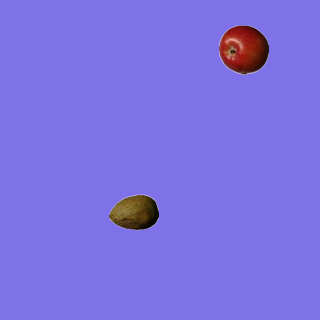Apple Braeburn: (218, 24, 268, 74)
Papaya: (108, 187, 158, 237)
